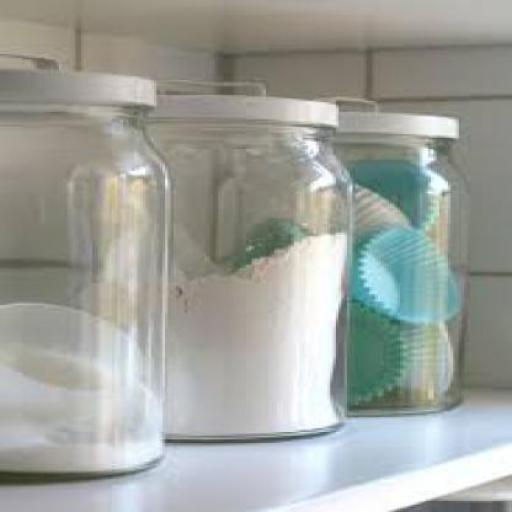biodegradable: (157, 229, 330, 432)
glass: (145, 118, 345, 441), (0, 102, 160, 473), (327, 128, 459, 414)
plastic: (0, 298, 134, 410), (148, 78, 339, 126), (0, 50, 158, 104), (33, 389, 154, 450), (310, 95, 459, 138), (0, 412, 42, 470)
